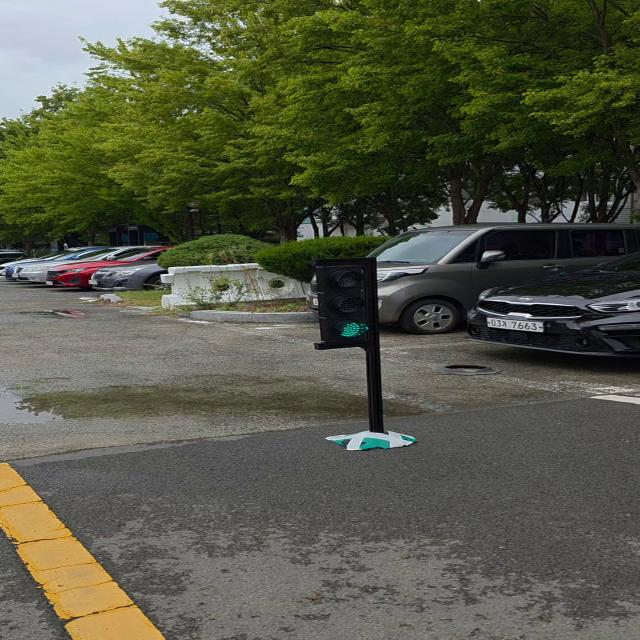green: (312, 257, 383, 349)
